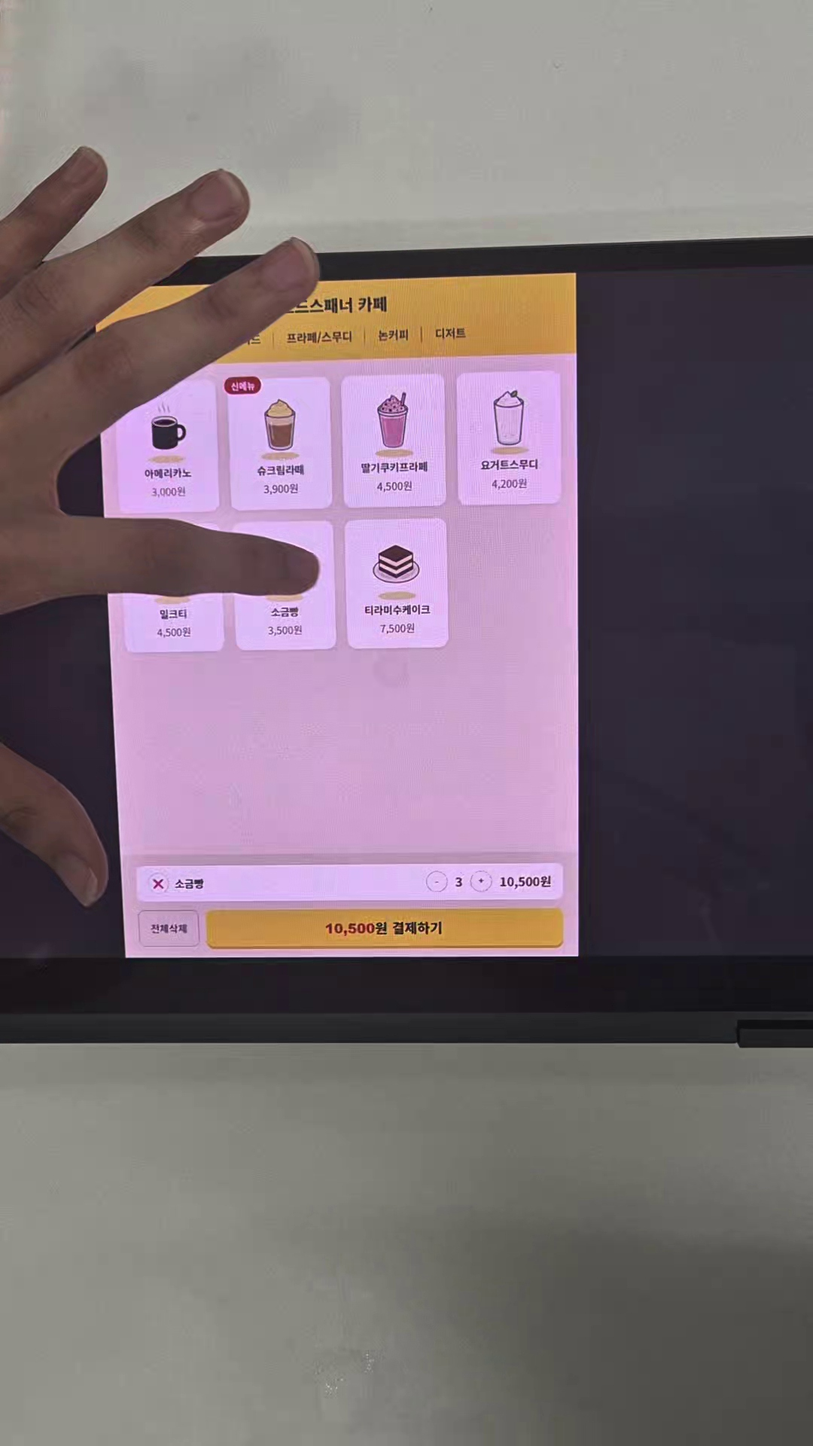action_button: (206, 908, 563, 949), (138, 910, 199, 946)
cart_item: (136, 863, 563, 902)
category_tab: (284, 329, 353, 345), (377, 327, 410, 342), (434, 325, 467, 340)
menu_back: (227, 377, 333, 512), (341, 374, 447, 508), (456, 371, 562, 505), (114, 379, 219, 514), (344, 518, 449, 649), (120, 523, 225, 653), (233, 520, 337, 651)
menu_name: (359, 460, 429, 474), (363, 603, 431, 617), (480, 458, 539, 471), (256, 463, 305, 477), (142, 466, 192, 479), (158, 607, 189, 621), (269, 605, 300, 619)
menu_price: (150, 485, 187, 499), (262, 482, 300, 495), (157, 626, 191, 640), (267, 624, 303, 637), (379, 622, 415, 635), (376, 480, 413, 492), (491, 478, 528, 490)
